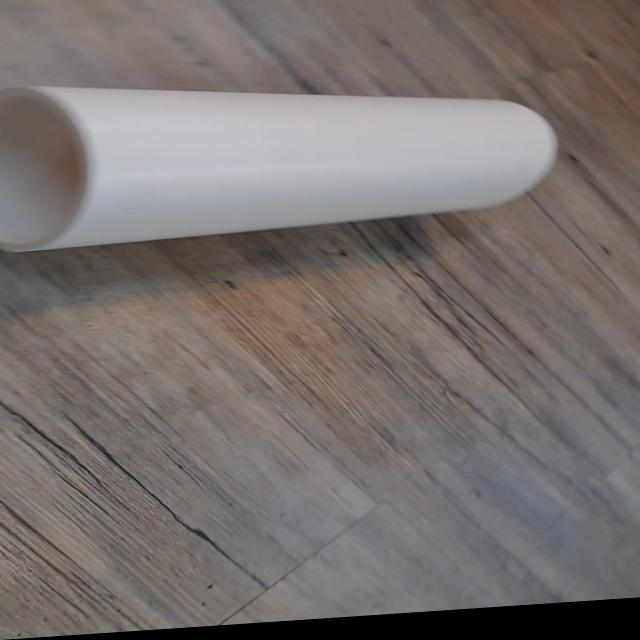CORAL: (0, 43, 563, 258)
